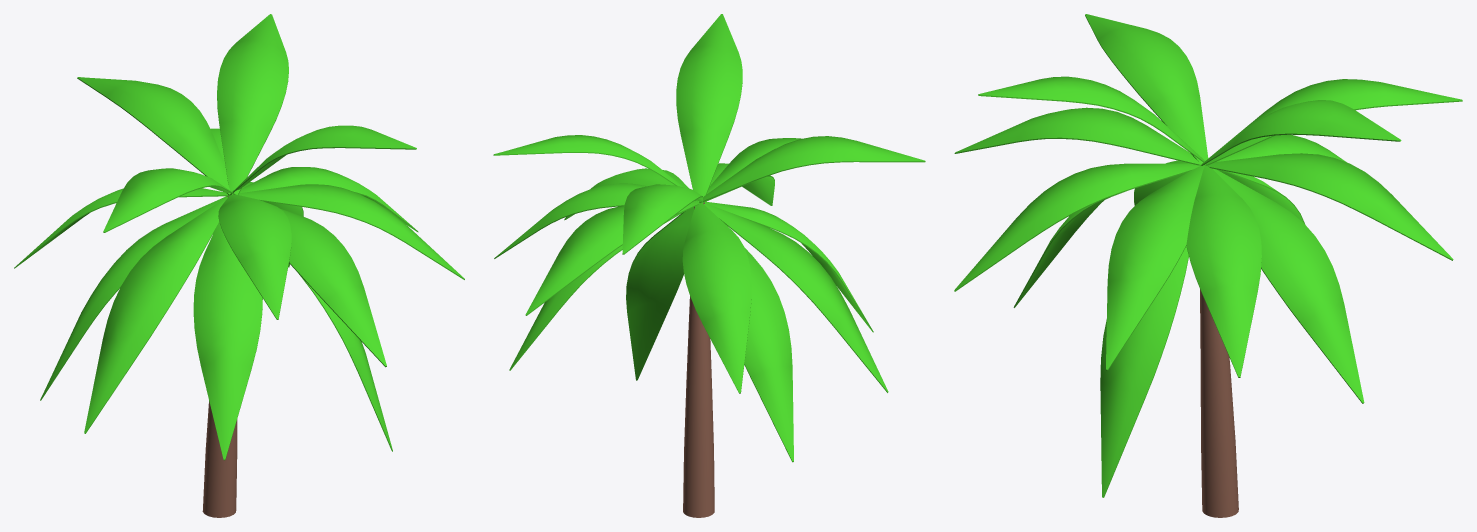
Rendered from 99f2c199-f92e-413e-88aa-180eeb63d190.glb.
The picture shows the model from 3 angles, left to right: view 1: azimuth 30°, elevation 25°; view 2: azimuth 150°, elevation 25°; view 3: azimuth 270°, elevation 25°; orthographic projection. The views are drawn at different scales.
Visible parts, largest first — view 1: Box010, Box009, Box006, Box011, Box007, Box002, Box004, Box008, Box001, Cylinder001, Box003, Box013 (+2 smaller); view 2: Box014, Box003, Box008, Box012, Cylinder001, Box009, Box001, Box015, Box007, Box006, Box013, Box010 (+4 smaller); view 3: Box013, Box005, Box004, Box001, Box012, Box015, Cylinder001, Box011, Box002, Box006, Box007, Box003 (+3 smaller).
Boxes of the visible parts, x1,y1,x2,y2 form: Box010: (193, 222, 262, 460); Box009: (84, 197, 227, 433); Box006: (217, 14, 288, 194); Box011: (280, 208, 386, 367); Box007: (77, 77, 230, 194); Box002: (218, 194, 291, 319); Box004: (228, 184, 464, 279); Box008: (40, 196, 227, 400); Box001: (103, 168, 235, 232); Cylinder001: (202, 196, 237, 517); Box003: (229, 125, 416, 195); Box013: (228, 167, 418, 232); Box014: (682, 203, 751, 393); Box003: (676, 14, 742, 202); Box008: (744, 247, 793, 462); Box012: (626, 207, 693, 380); Cylinder001: (683, 202, 714, 517); Box009: (704, 203, 888, 392); Box001: (699, 136, 925, 202); Box015: (525, 201, 699, 315); Box007: (622, 184, 702, 254); Box006: (493, 135, 700, 201); Box013: (494, 183, 704, 258); Box010: (697, 201, 873, 332); Box013: (1186, 165, 1261, 377); Box005: (1212, 168, 1364, 403); Box004: (1106, 165, 1204, 370); Box001: (1085, 14, 1208, 163); Box012: (1100, 246, 1188, 497); Box015: (1207, 153, 1453, 260); Cylinder001: (1200, 289, 1238, 517); Box011: (954, 163, 1200, 291); Box002: (954, 107, 1201, 165); Box006: (1201, 100, 1401, 165); Box007: (1204, 79, 1462, 165); Box003: (978, 76, 1207, 164).
Bounding box in the file's own units: 136041 × 142715 × 142509.
